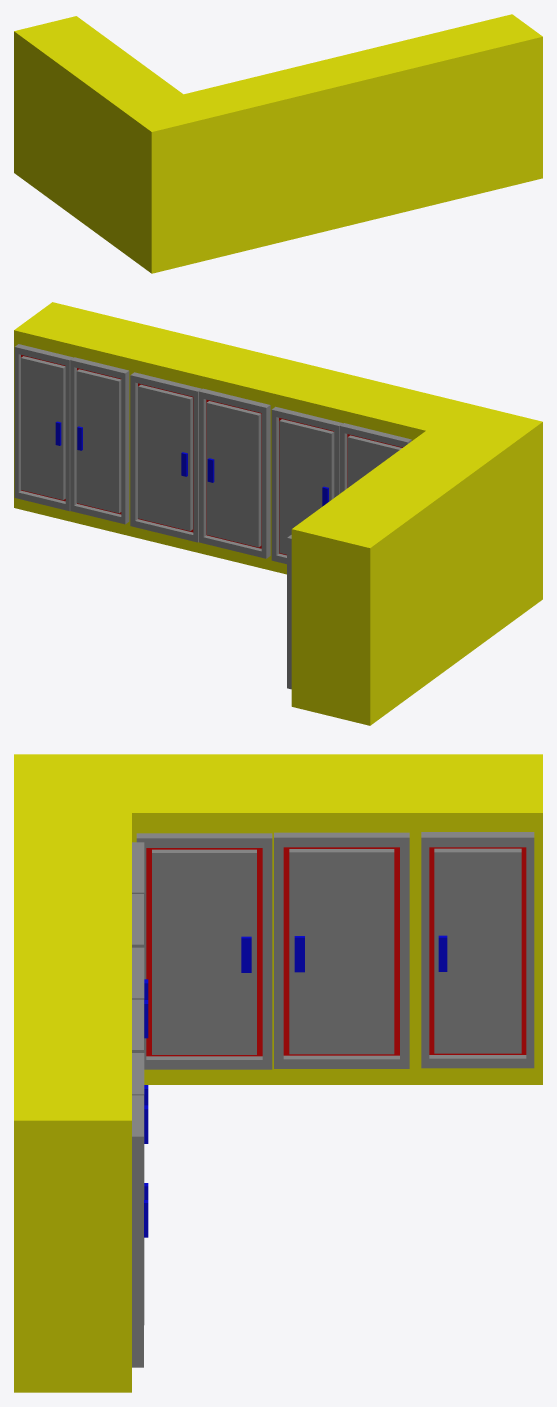
Rendered from Big_Armoire2.fbx.
3 views of the same model, one above another, from view 1: azimuth 30°, elevation 25°; view 2: azimuth 150°, elevation 25°; view 3: azimuth 270°, elevation 25° (orthographic). The views are drawn at different scales.
Visible parts, largest first — view 1: pCube172; view 2: pCube172; view 3: pCube172.
Part boxes in pixels (bbox=[...]): pCube172: bbox=[14, 14, 542, 273]; pCube172: bbox=[14, 302, 542, 725]; pCube172: bbox=[14, 754, 542, 1392].
Bounding box in the file's own units: 454 × 157 × 277.
